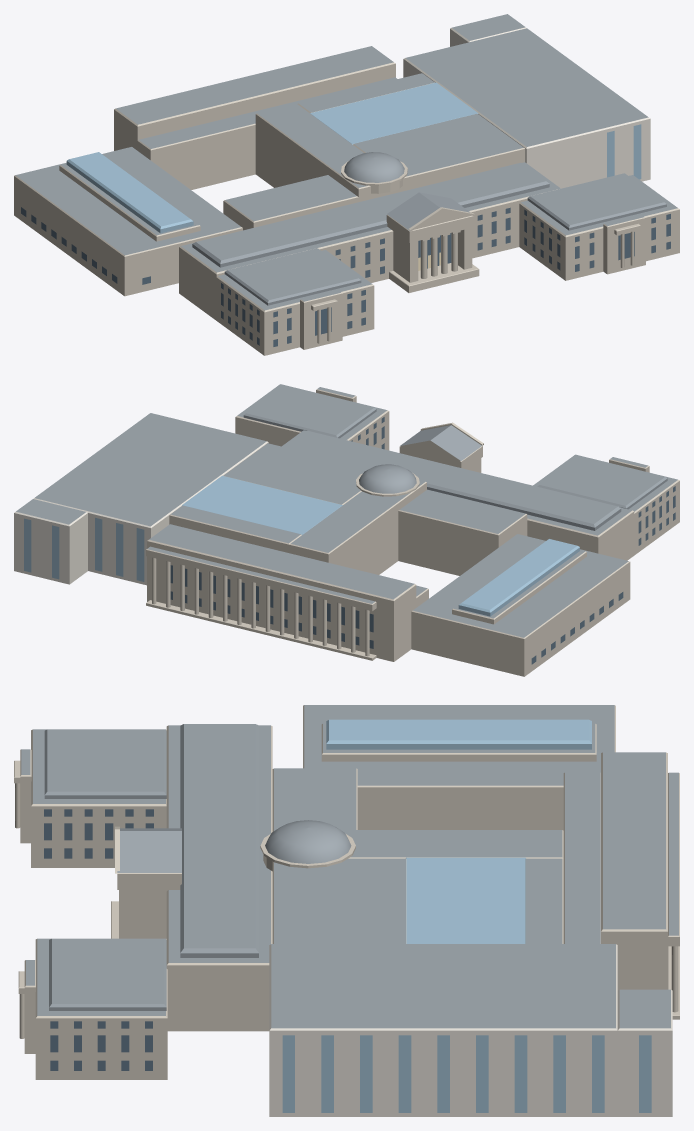
Rendered from bos-museum-of-fine-arts.glb.
3 renders of one model, top to bottom at view 1: azimuth 30°, elevation 25°; view 2: azimuth 150°, elevation 25°; view 3: azimuth 270°, elevation 25°, orthographic. The views are drawn at different scales.
Parts seen in each view (by area): view 1: Museum of Fine Arts; view 2: Museum of Fine Arts; view 3: Museum of Fine Arts.
Boxes of the visible parts, <box> form: Museum of Fine Arts: <box>14,14,679,355</box>; Museum of Fine Arts: <box>14,384,679,676</box>; Museum of Fine Arts: <box>14,705,679,1116</box>.
Bounding box in the file's own units: 187 × 26.4 × 148.
